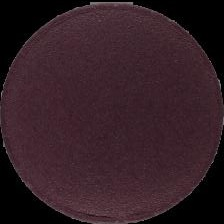49999-381: (0, 0, 224, 224)
